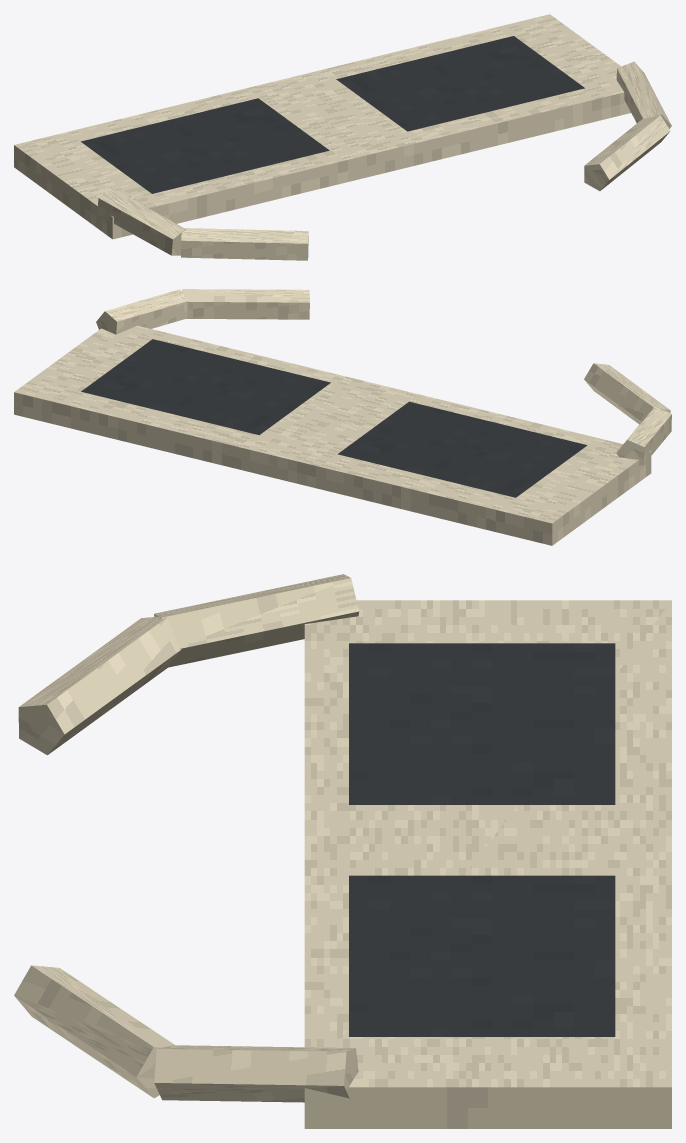
Rendered from eclipse_glasses.glb.
The picture shows the model from 3 angles, top to bottom: view 1: azimuth 30°, elevation 25°; view 2: azimuth 150°, elevation 25°; view 3: azimuth 270°, elevation 25°; orthographic projection. The views are drawn at different scales.
Visible parts, largest first — view 1: block_folded paper frame, block_solar filter (×2), block_folding paper arm 1 (×2), block_folding paper arm 0 (×2); view 2: block_folded paper frame, block_solar filter (×2), block_folding paper arm 1 (×2), block_folding paper arm 0 (×2); view 3: block_folded paper frame, block_solar filter (×2), block_folding paper arm 0 (×2), block_folding paper arm 1 (×2).
Part boxes in pixels (x1,y1,x2,y2): block_folded paper frame: (14,14,630,239); block_solar filter (×2): (81,36,584,193); block_folding paper arm 1 (×2): (181,115,670,260); block_folding paper arm 0 (×2): (97,61,671,255); block_folded paper frame: (14,325,651,545); block_solar filter (×2): (81,339,587,497); block_folding paper arm 1 (×2): (182,289,670,424); block_folding paper arm 0 (×2): (96,289,671,465); block_folded paper frame: (304,600,671,1128); block_solar filter (×2): (349,643,615,1036); block_folding paper arm 0 (×2): (154,574,359,1102); block_folding paper arm 1 (×2): (14,616,181,1098).
Size of the model in its own units: 0.076 by 0.0053 by 0.0426.
Materials: 1 (1 with a texture image).
